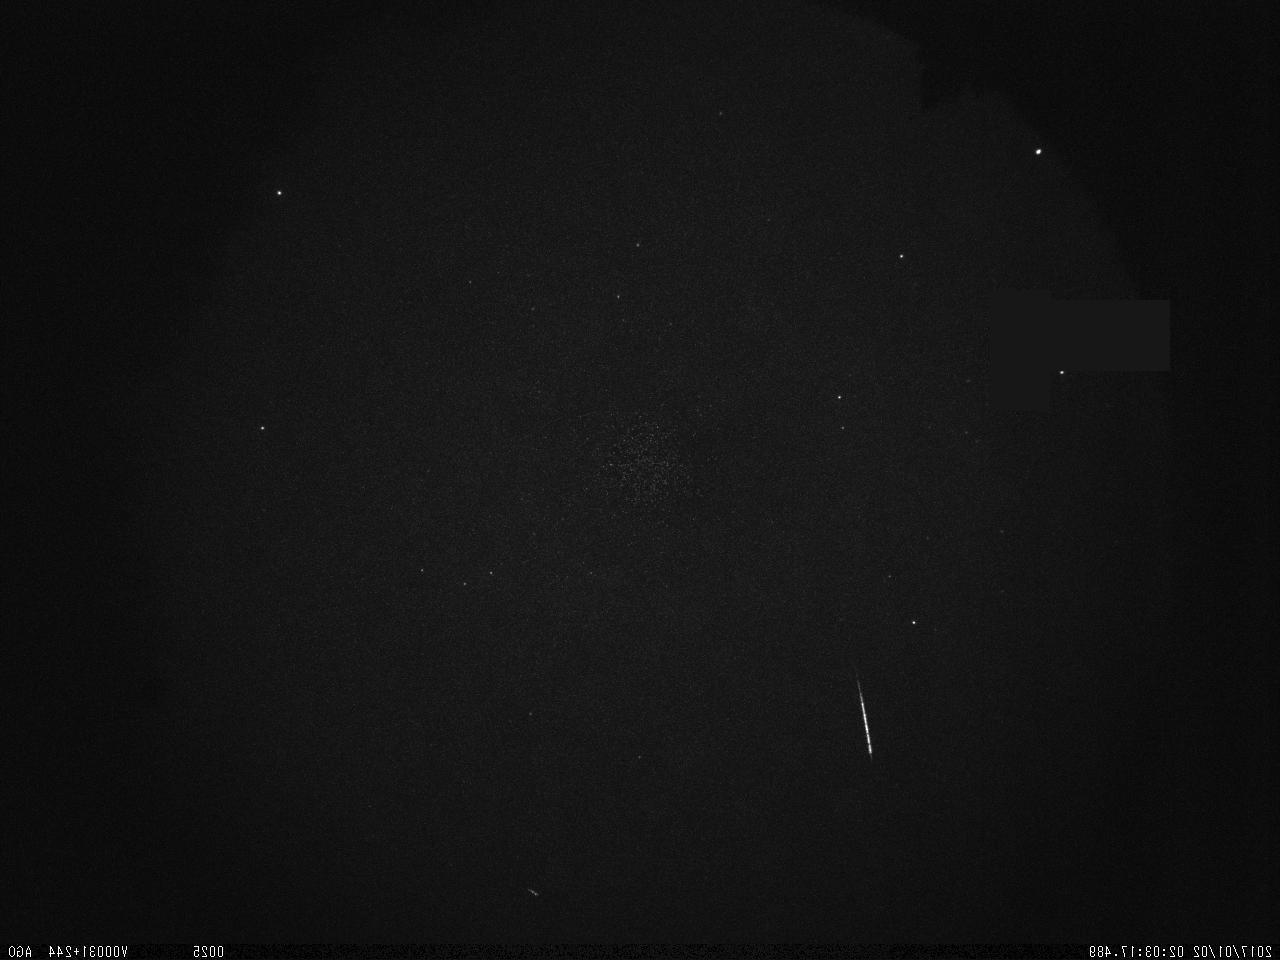meteor: (836, 668, 887, 770)
